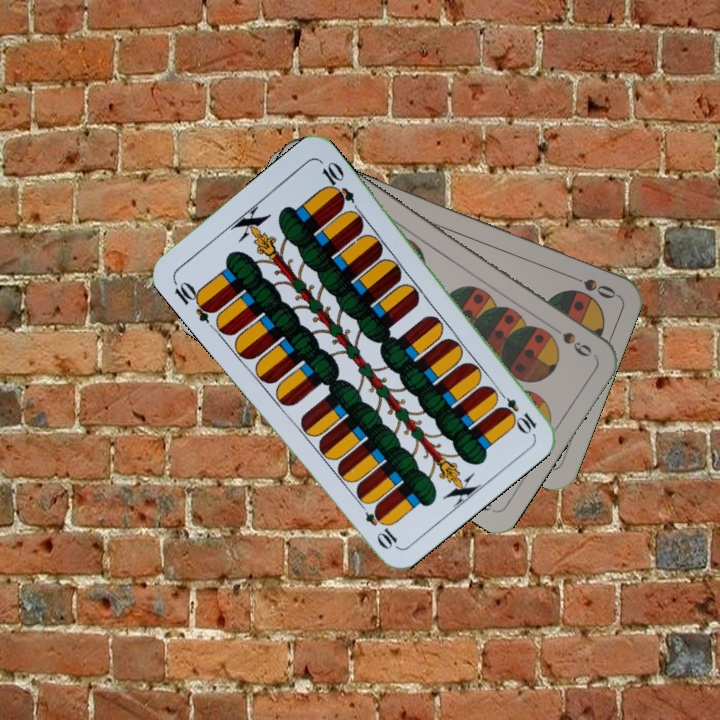E10: (169, 276, 219, 325), (492, 385, 539, 436)
S9: (544, 320, 595, 360)
SO: (562, 269, 619, 302)
